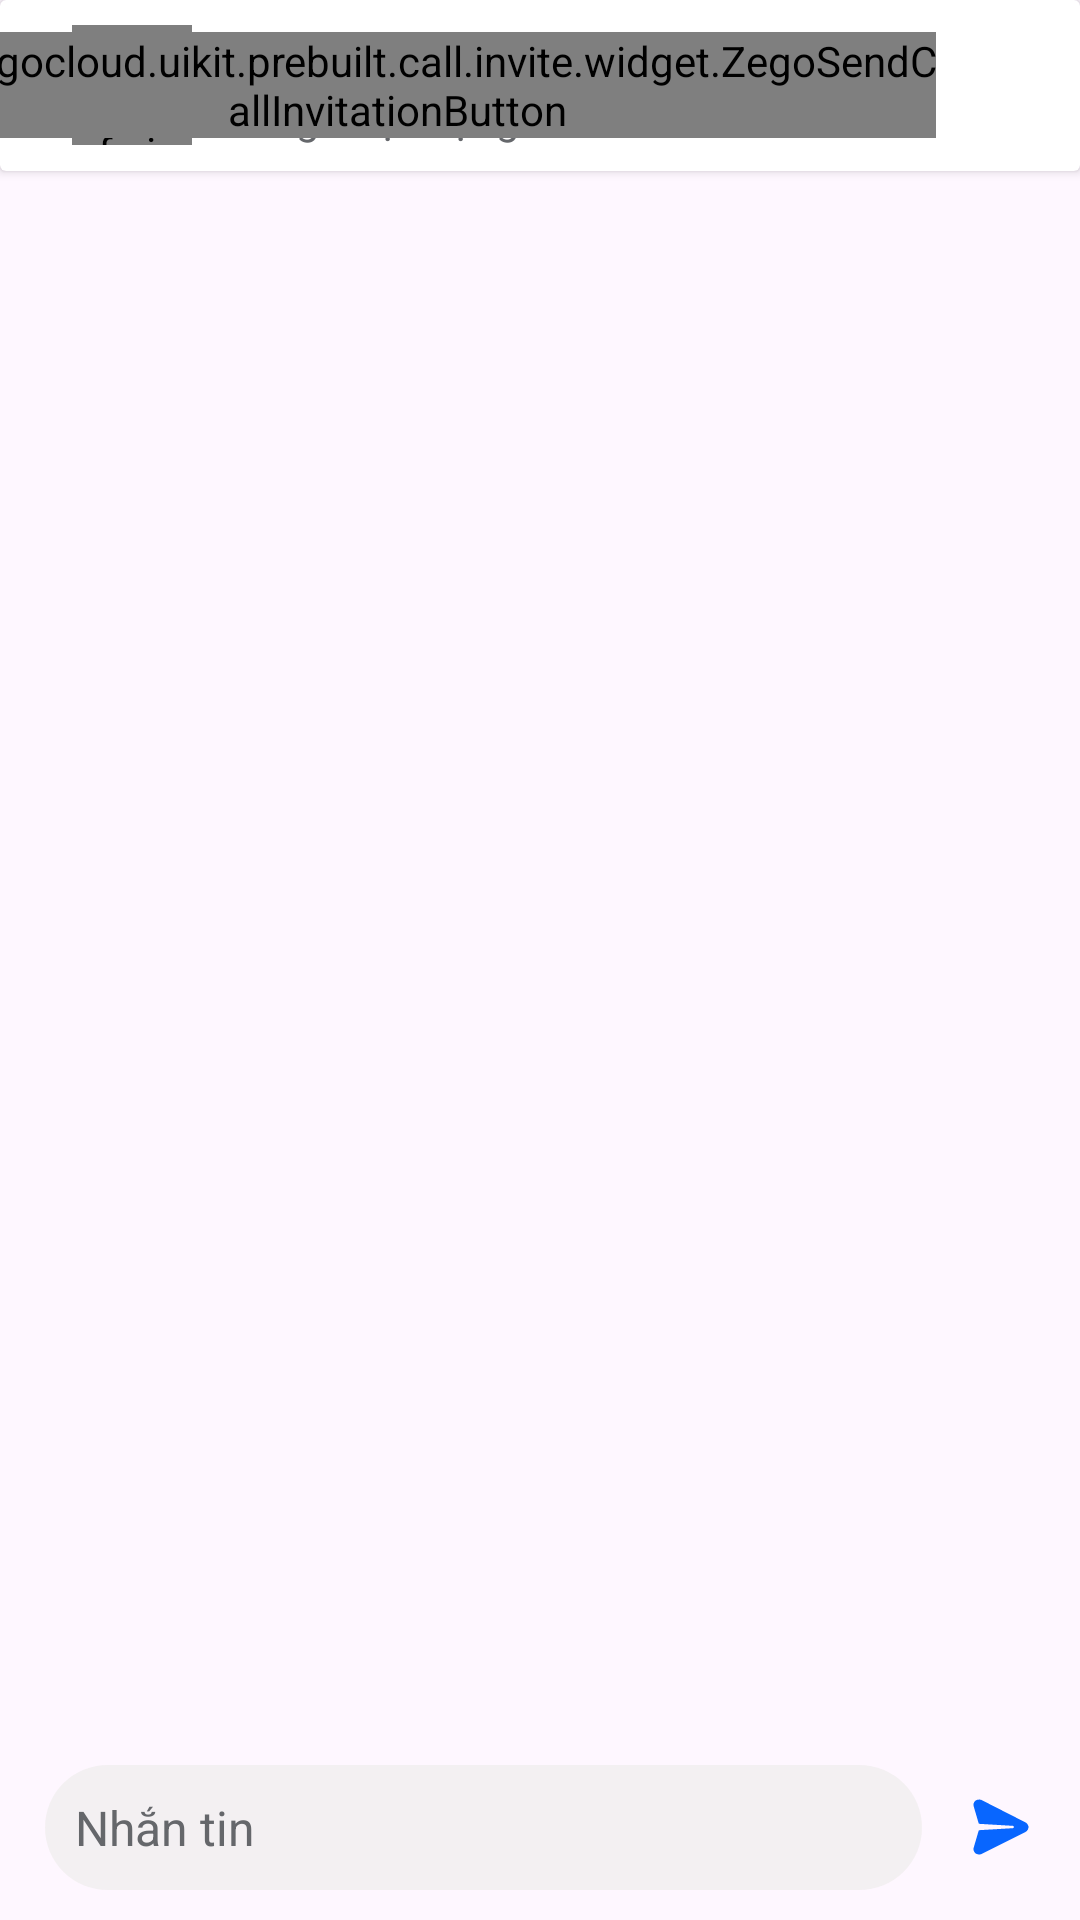

Point at icon controls on the screen. Image size 1080 x 1920, points as [x,y].
send: [1001,1827]
